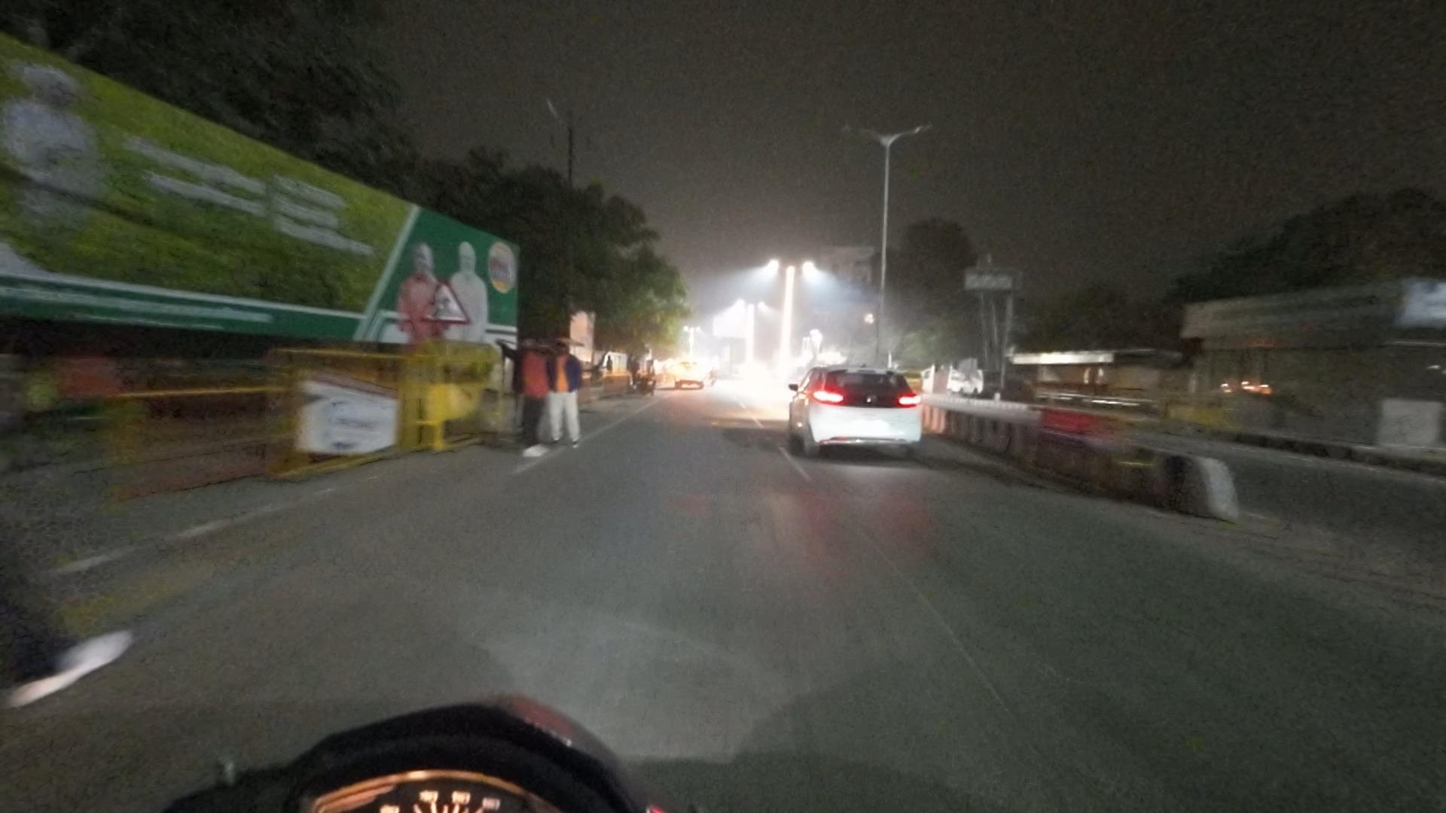streetlight: (892, 120, 935, 146), (840, 118, 880, 145)
